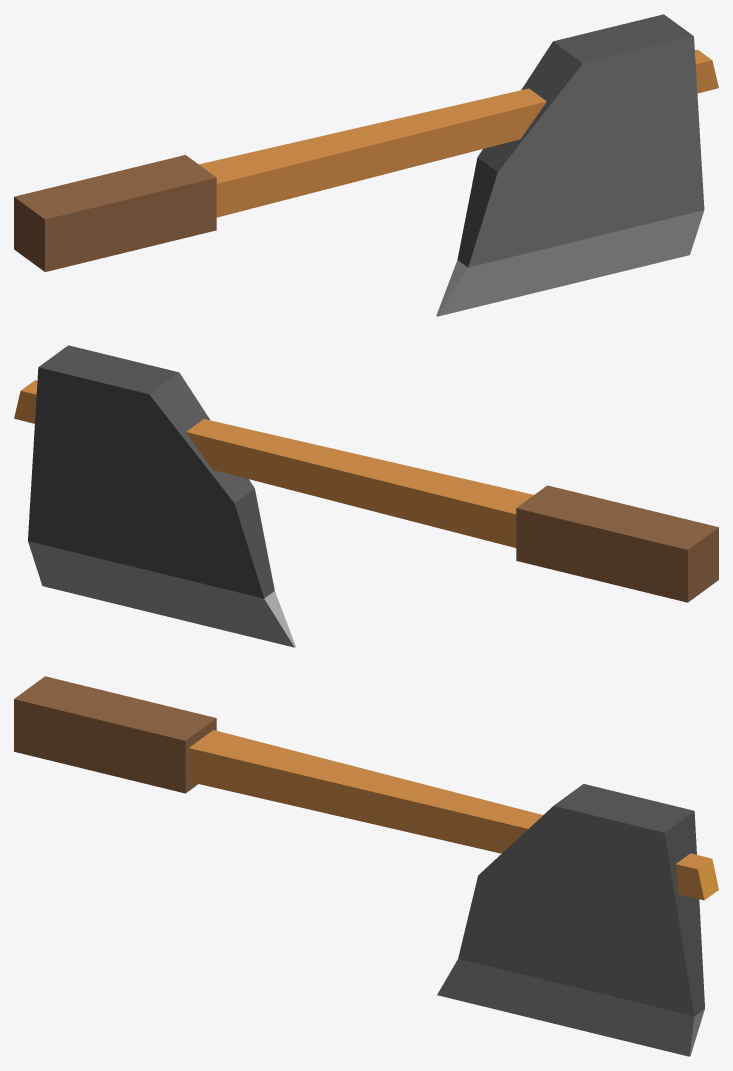
The model's file is Axe.fbx.
3 views of the same model, one above another, from view 1: azimuth 30°, elevation 25°; view 2: azimuth 150°, elevation 25°; view 3: azimuth 330°, elevation 25° (orthographic).
Visible parts, largest first — view 1: Axe; view 2: Axe; view 3: Axe.
Part boxes in pixels (x1,y1,x2,y2): Axe: [14, 14, 718, 316]; Axe: [14, 345, 718, 647]; Axe: [14, 676, 718, 1056].
Size of the model in its own units: 128 by 41.57 by 10.13.
